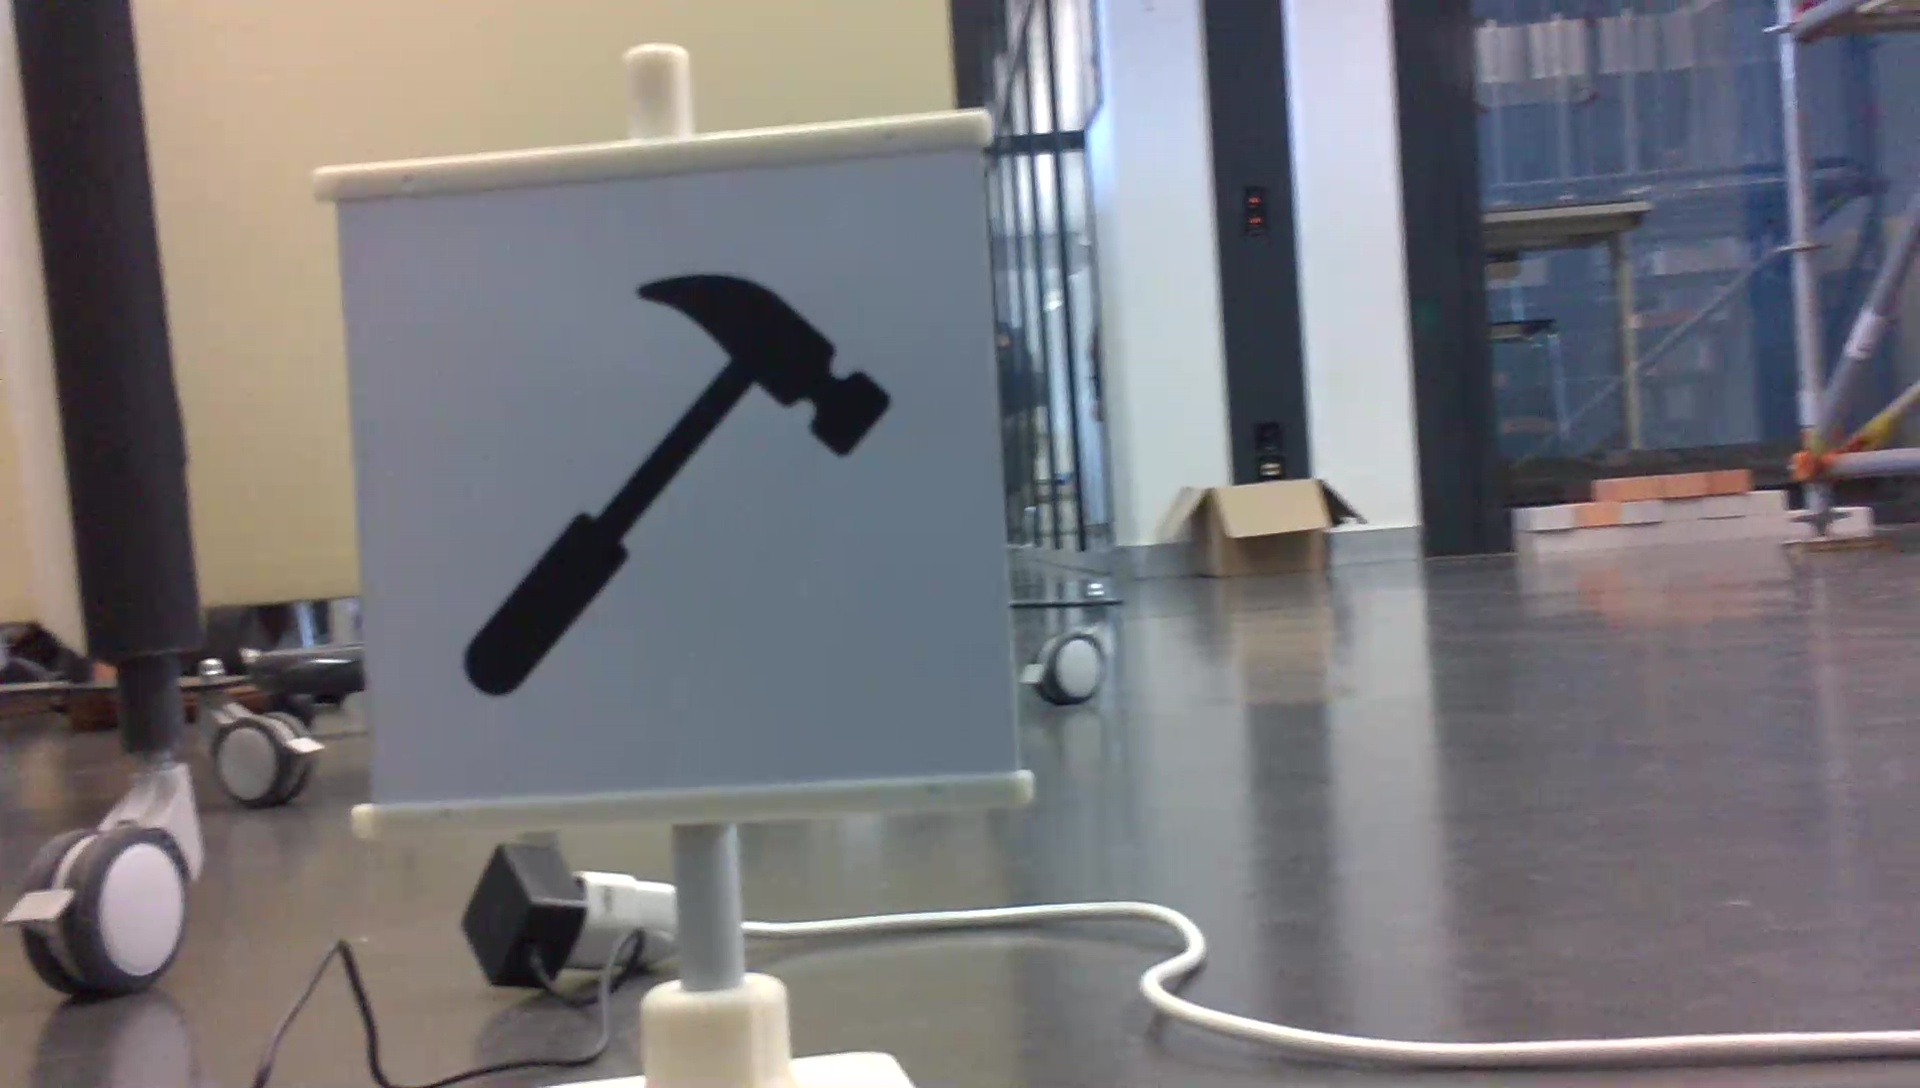hammer: (458, 262, 902, 710)
